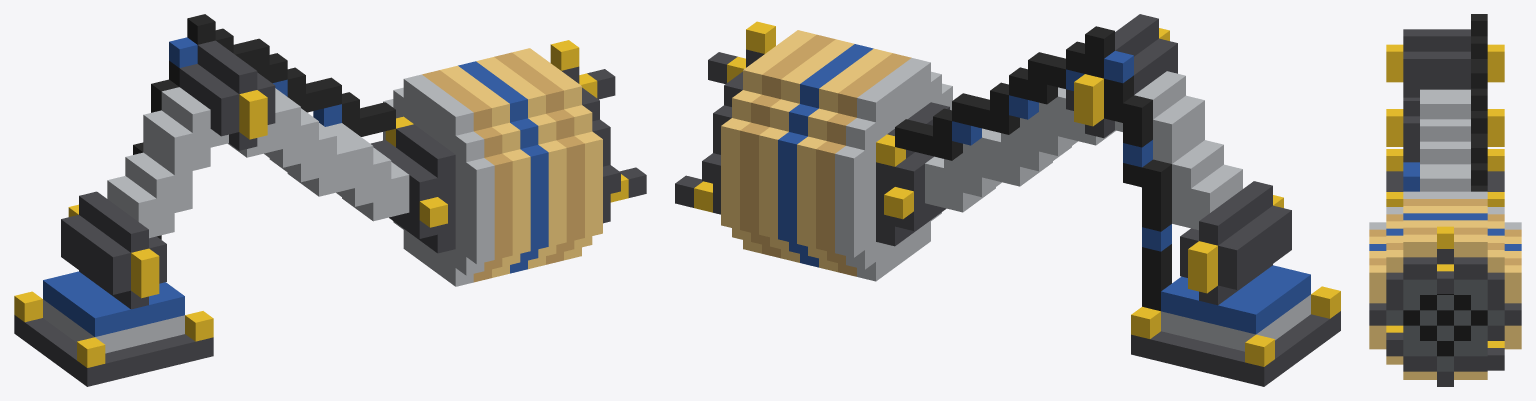
File: APXS Spectrometer (Sojourner).glb
3 views of the same model, side by side, from view 1: azimuth 30°, elevation 25°; view 2: azimuth 150°, elevation 25°; view 3: azimuth 270°, elevation 25° (orthographic). The views are drawn at different scales.
Parts seen in each view (by area): view 1: APXS_Espectrometro_Voxel; view 2: APXS_Espectrometro_Voxel; view 3: APXS_Espectrometro_Voxel.
Boxes of the visible parts, x1,y1,x2,y2 form: APXS_Espectrometro_Voxel: (14,14,646,386); APXS_Espectrometro_Voxel: (675,14,1340,386); APXS_Espectrometro_Voxel: (1369,14,1521,386).
Size of the model in its own units: 3.1 by 1.5 by 0.9.
